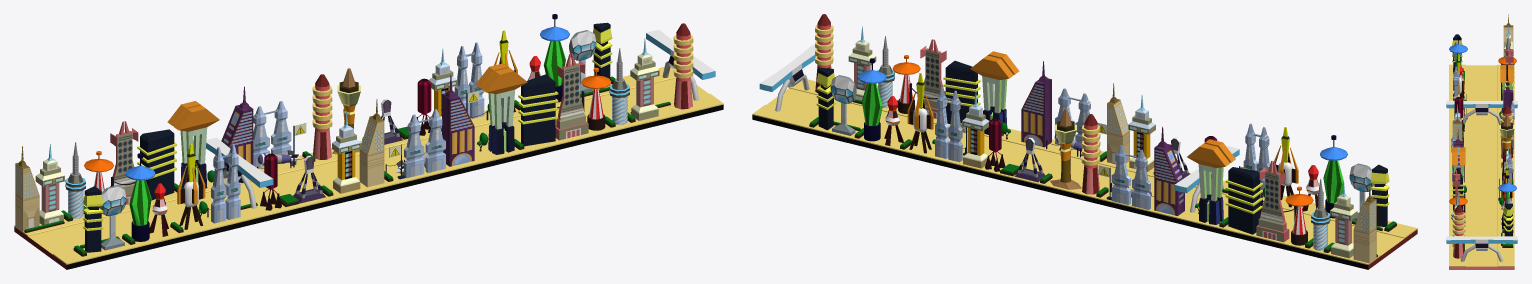
The picture shows the model from 3 angles, left to right: view 1: azimuth 30°, elevation 25°; view 2: azimuth 150°, elevation 25°; view 3: azimuth 270°, elevation 25°; orthographic projection. The views are drawn at different scales.
Visible parts, largest first — view 1: Box001, Box059, Box053, Box010, Box052, Box048, Box056, Box008, Box072, Box062, Box039, Cylinder015 (+28 smaller); view 2: Box001, Box010, Box008, Box059, Box011, Box052, Box039, Box006, Box021, Box053, Box002, Cylinder005 (+27 smaller); view 3: Box001, Cylinder010, Cylinder011, Cylinder015, Cylinder006, Box043, Box010, Box059, Cylinder005, Cylinder009, Cylinder017, Box062 (+24 smaller).
Part boxes in pixels (bbox=[...]): Box001: bbox=[14, 66, 723, 269]; Box059: bbox=[475, 63, 527, 154]; Box053: bbox=[518, 74, 558, 146]; Box010: bbox=[167, 101, 219, 188]; Box052: bbox=[442, 75, 474, 166]; Box048: bbox=[404, 109, 445, 178]; Box056: bbox=[555, 53, 588, 140]; Box008: bbox=[137, 129, 176, 200]; Box072: bbox=[211, 143, 240, 223]; Box062: bbox=[359, 99, 384, 187]; Box039: bbox=[253, 101, 291, 168]; Cylinder015: bbox=[673, 23, 693, 109]; Box001: bbox=[752, 79, 1417, 269]; Box010: bbox=[1187, 139, 1235, 224]; Box008: bbox=[1225, 167, 1262, 234]; Box059: bbox=[970, 51, 1019, 135]; Box011: bbox=[1154, 126, 1184, 215]; Box052: bbox=[1021, 61, 1051, 147]; Box039: bbox=[1111, 145, 1150, 209]; Box006: bbox=[1256, 161, 1289, 242]; Box021: bbox=[935, 87, 962, 162]; Box053: bbox=[943, 60, 980, 123]; Box002: bbox=[1353, 183, 1376, 263]; Cylinder005: bbox=[1081, 114, 1100, 194]; Box001: bbox=[1449, 64, 1514, 269]; Cylinder010: bbox=[1446, 236, 1517, 261]; Cylinder011: bbox=[1446, 100, 1517, 125]; Cylinder015: bbox=[1452, 204, 1465, 258]; Cylinder006: bbox=[1499, 114, 1514, 168]; Box043: bbox=[1503, 203, 1514, 243]; Box010: bbox=[1500, 65, 1513, 111]; Box059: bbox=[1452, 147, 1465, 197]; Cylinder005: bbox=[1500, 106, 1513, 158]; Cylinder009: bbox=[1498, 175, 1516, 229]; Cylinder017: bbox=[1449, 36, 1467, 90]; Box062: bbox=[1452, 110, 1462, 140].
Bounding box in the file's own units: 3167 × 433 × 474.
Materials: 67 (9 with a texture image).
